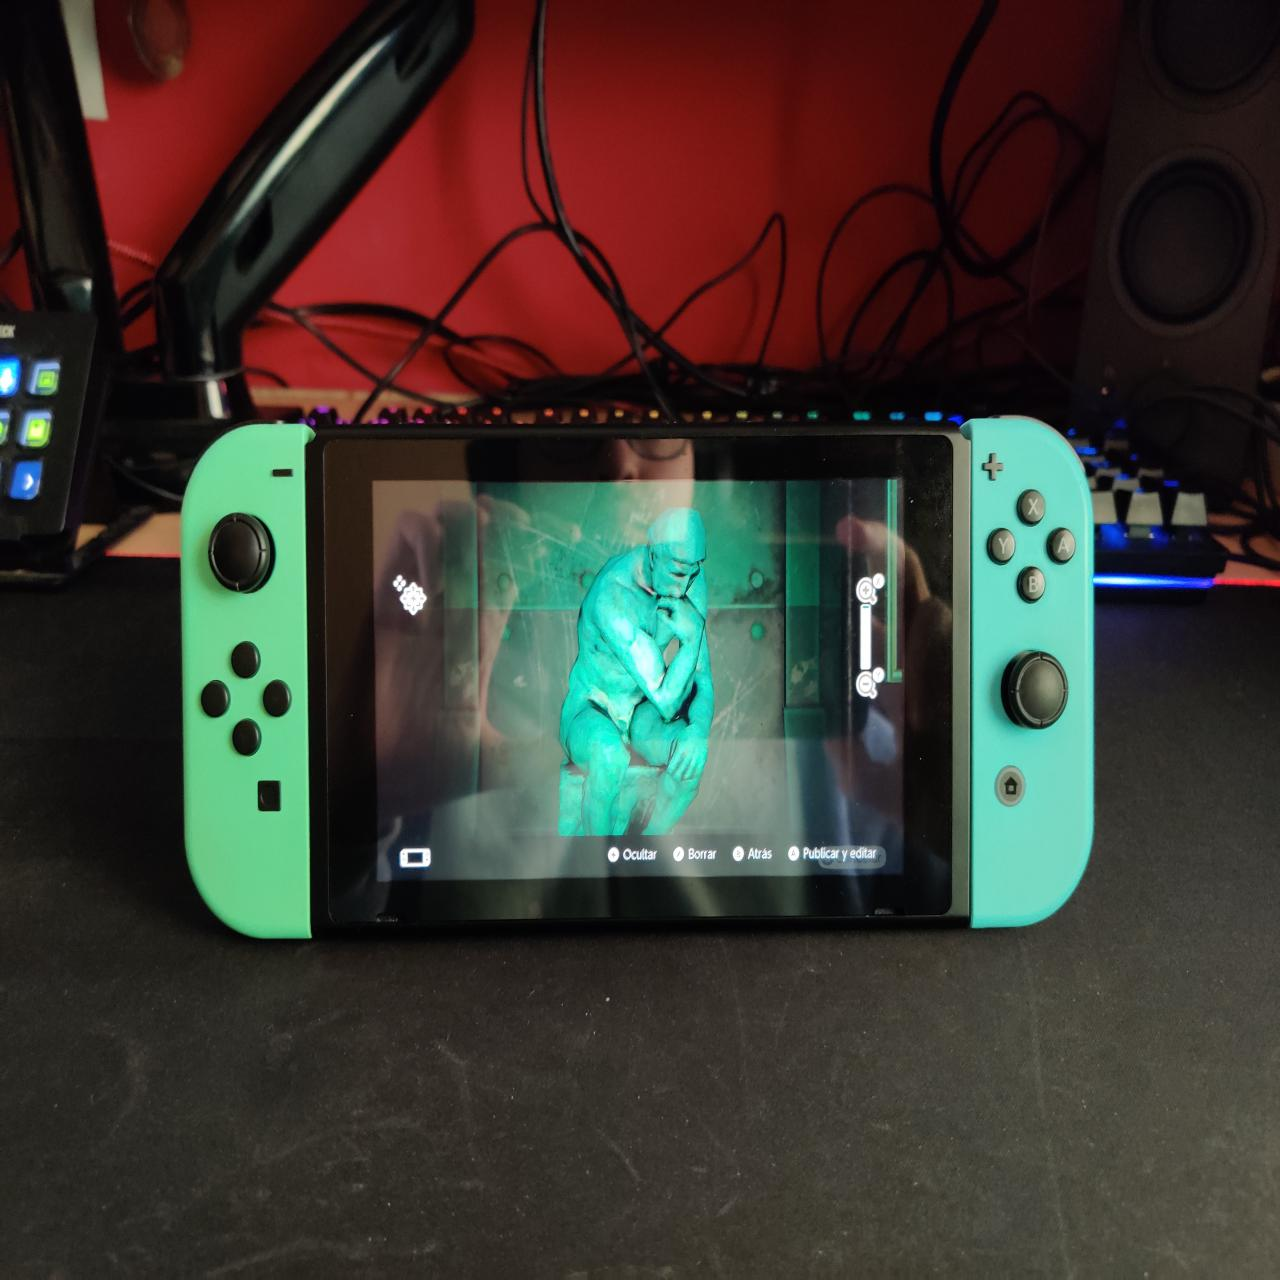Thinker: (557, 501, 716, 830)
